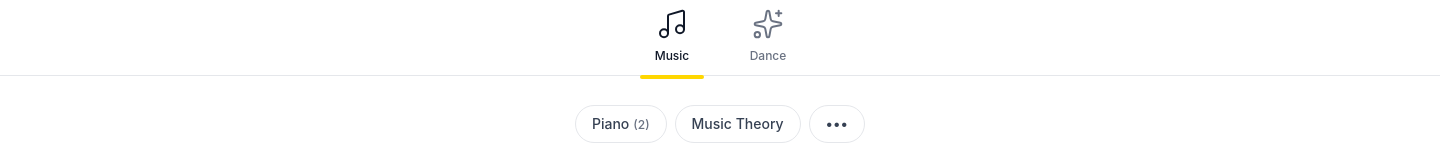
it: HomeCatalogCascade › shows subcategories after selecting a category
The width and height of the screenshot is (1440, 160).
Expected: the button "Piano(2)" is shown, top-left (575, 105), bottom-right (667, 143)
Click the button "Dance": coordinates (768, 38) top-left (728, 8), bottom-right (808, 67)
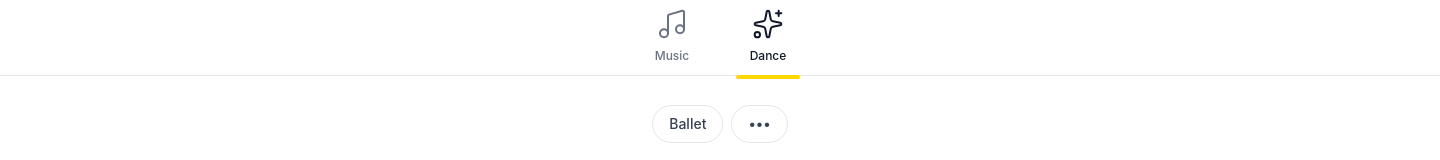
Expected: the button "Ballet" is shown, top-left (652, 105), bottom-right (723, 143)
